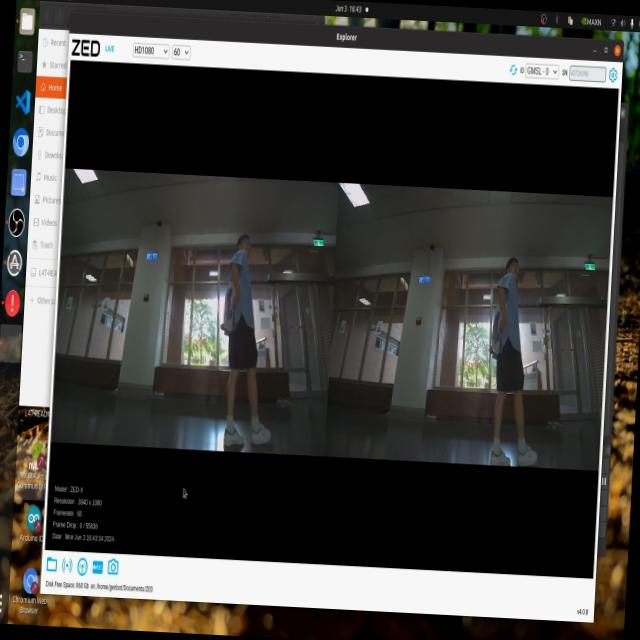blue: (219, 285, 240, 321), (489, 306, 506, 346)
